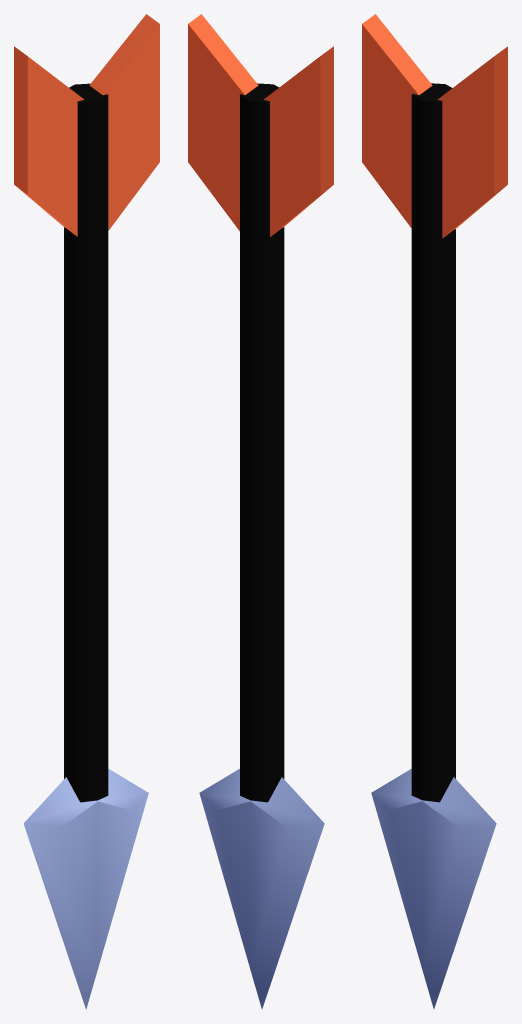
The model's file is Arrow.fbx.
The picture shows the model from 3 angles, left to right: view 1: azimuth 30°, elevation 25°; view 2: azimuth 150°, elevation 25°; view 3: azimuth 330°, elevation 25°; orthographic projection.
Visible parts, largest first — view 1: Arrow_01; view 2: Arrow_01; view 3: Arrow_01.
Boxes of the visible parts, box(x1,y1,x2,y2) form: Arrow_01: box(14, 14, 159, 1009); Arrow_01: box(188, 14, 333, 1009); Arrow_01: box(362, 14, 507, 1009).
Size of the model in its own units: 29.46 by 207 by 9.03.
